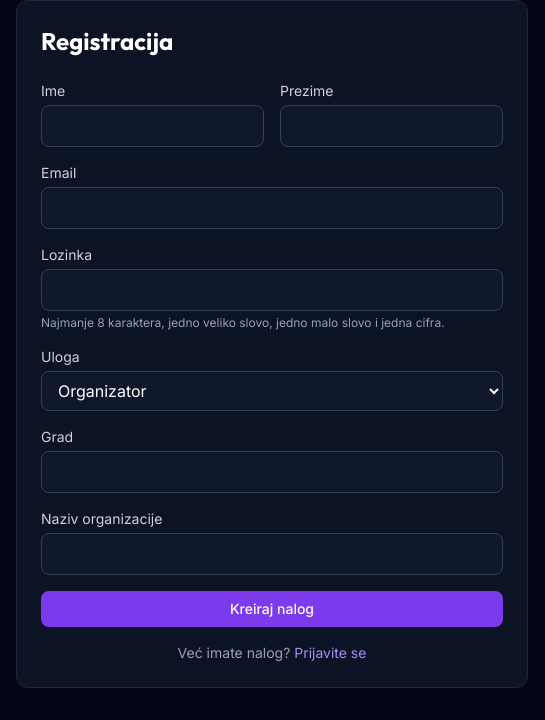
Test: RegisterPage › switches to artist-specific fields when the role is changed
This screenshot has width=545, height=720.
Select "Izvođač" in the dropdown labelled "Uloga" at (272, 391), box [41,371,503,411]
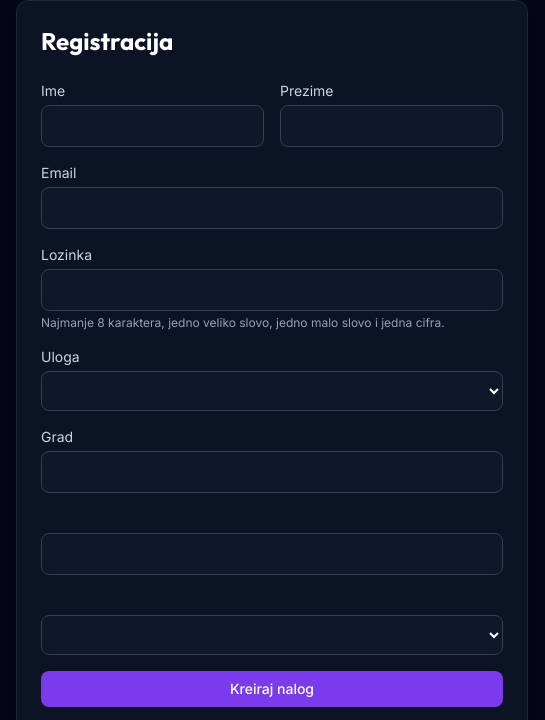
expect the field labelled "Umetničko ime" is shown: met, box [41,533,503,575]
expect the dropdown labelled "Tip izvođača" is shown: met, box [41,615,503,655]
expect the label labelled "Naziv organizacije" is gone: met
